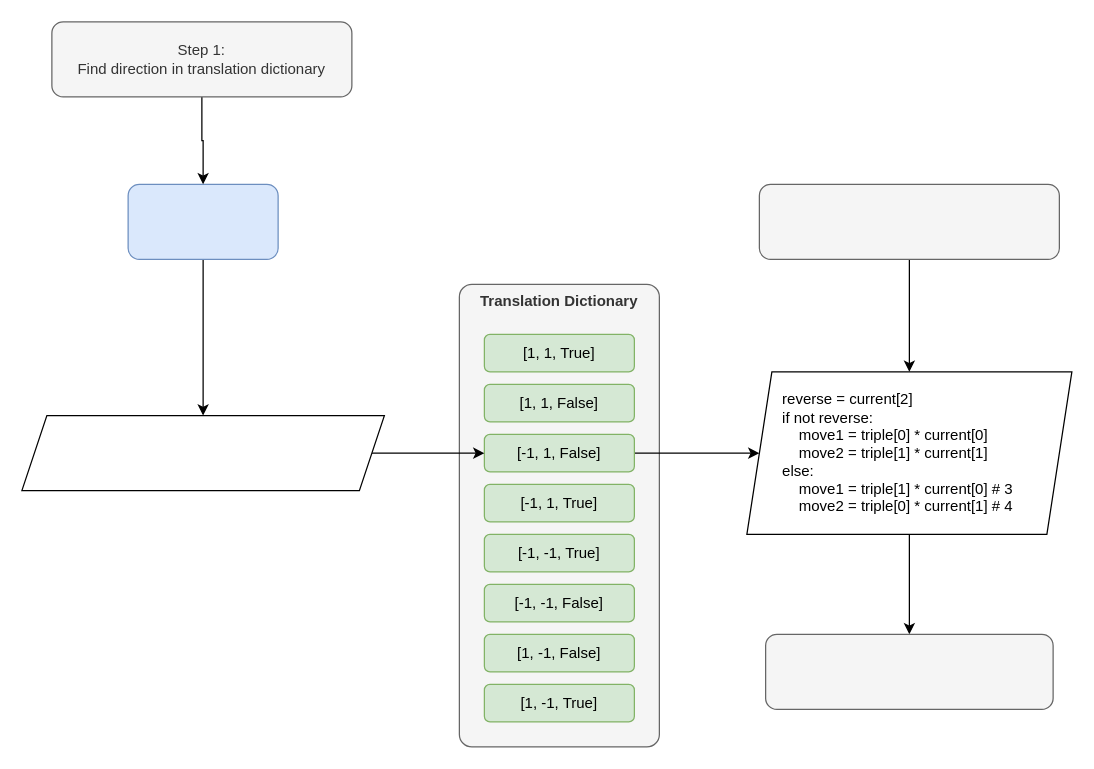
This 1094x769 diagram has some shape labels left out. Each missing label, with the centre of its shape:
"current = translation[direction - 1]" belongs at pixel 202 452.
"Input: Direction: 3 Triple: (3, 4, 5)" belongs at pixel 202 221.
"Step 2: Apply calculation" belongs at pixel 908 221.
"Step 3: Return (-3, 4)" belongs at pixel 908 671.
